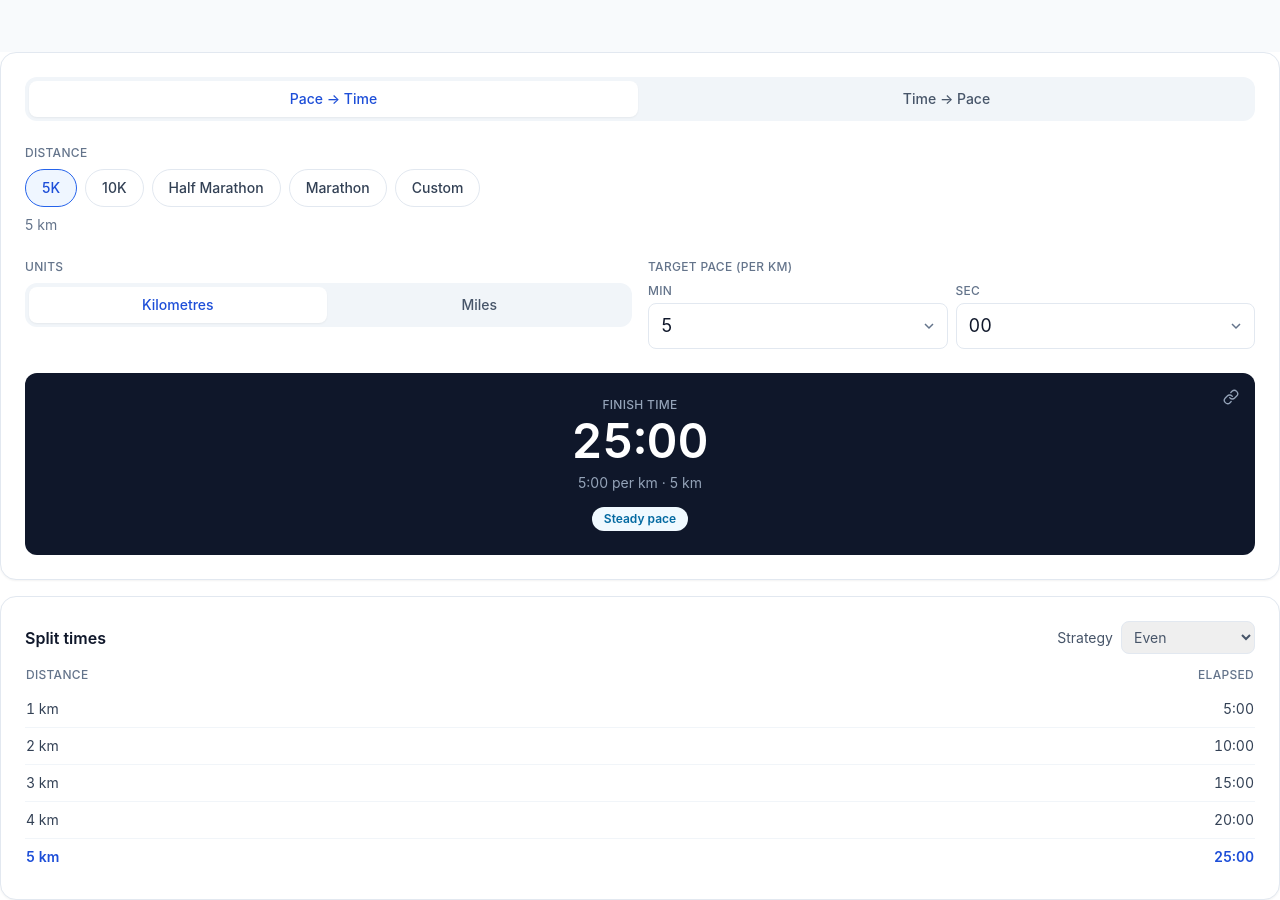
Test: splits › a negative split changes the pacing but not the finish time
(page scrolled)
Select "2% negative" in the dropdown named "Split strategy". click: [1188, 638]
box: [1121,621,1255,654]
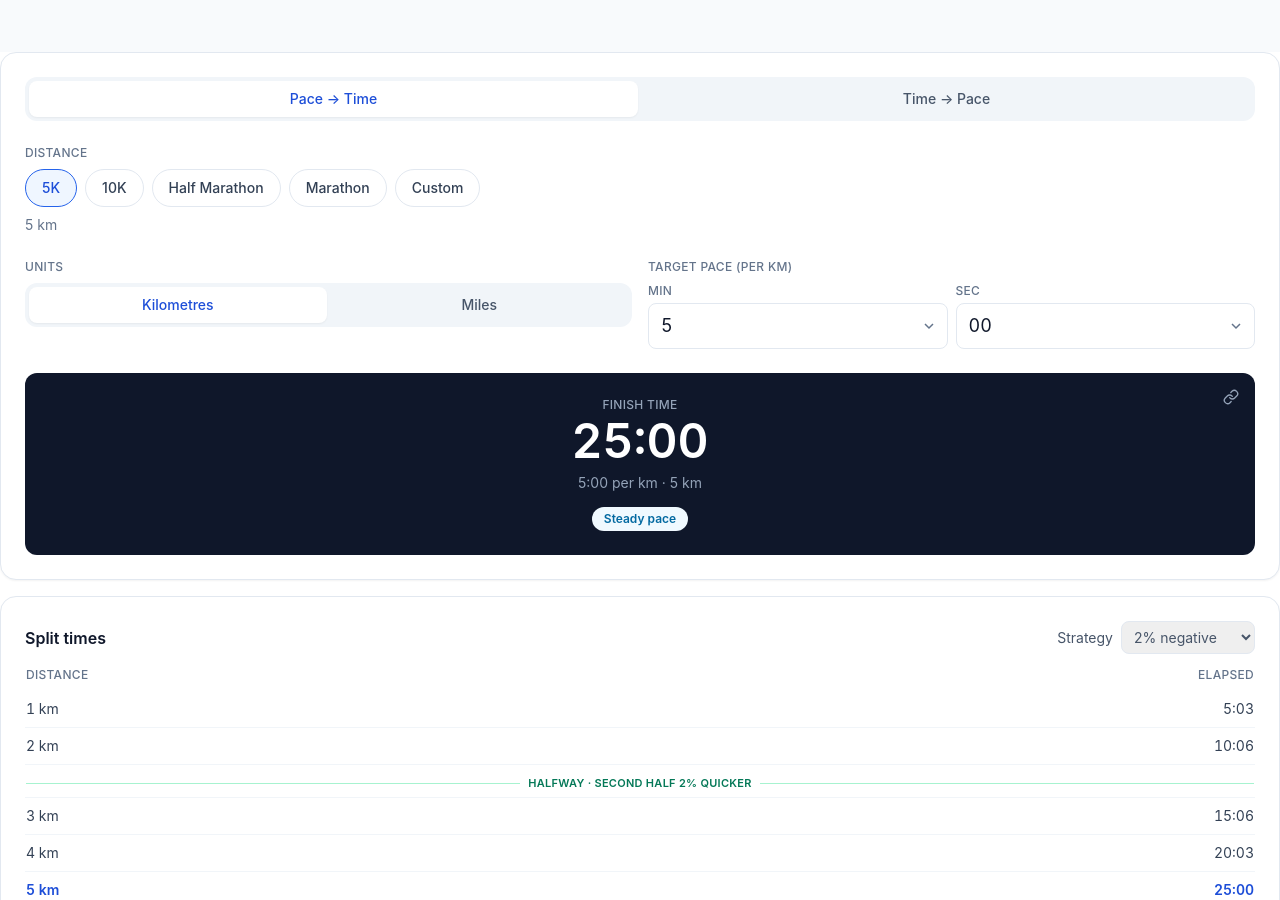
Check: the text "Halfway · second half 2% quicker" is shown, box [528,776,752,790]
